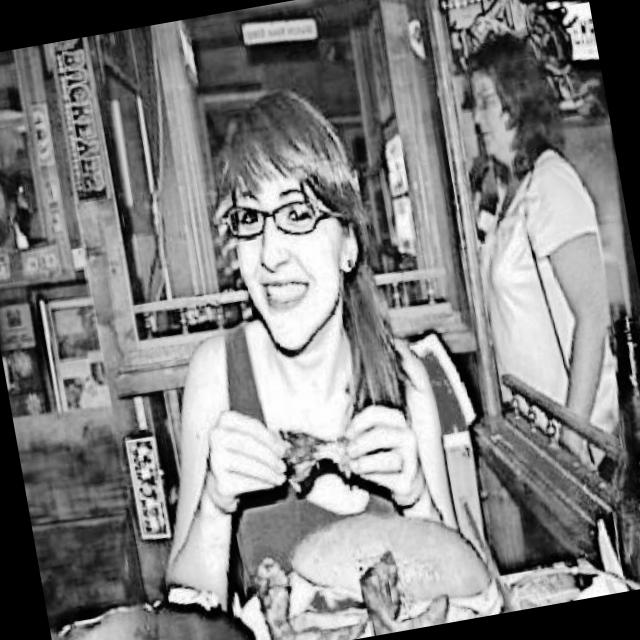Person: (82, 59, 461, 606), (431, 11, 640, 504)
